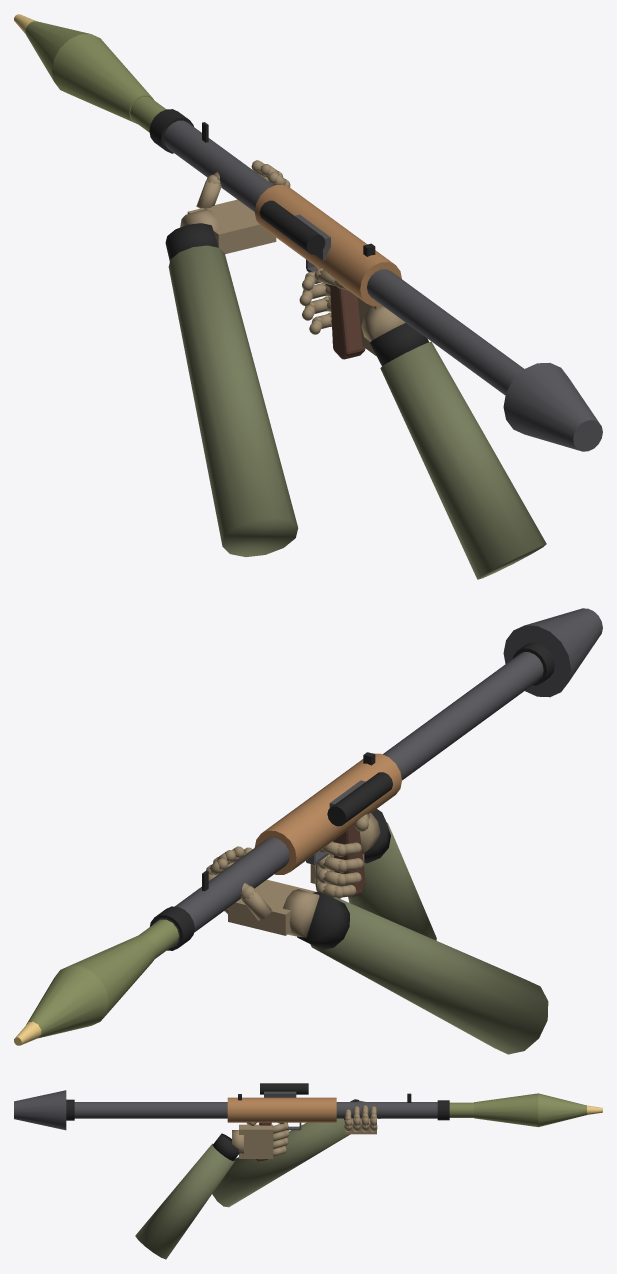
File: rpg7.glb
3 views of the same model, one above another, from view 1: azimuth 30°, elevation 25°; view 2: azimuth 150°, elevation 25°; view 3: azimuth 270°, elevation 25° (orthographic). The views are drawn at different scales.
Parts seen in each view (by area): view 1: RPG7_HandLeft, RPG7_Body, RPG7_HandRight, RPG7_Rocket; view 2: RPG7_Body, RPG7_HandLeft, RPG7_Rocket, RPG7_HandRight; view 3: RPG7_Body, RPG7_HandRight, RPG7_HandLeft, RPG7_Rocket.
Boxes of the visible parts, left/top/right/bottom form: RPG7_HandLeft: left=165, top=160, right=298, bottom=556; RPG7_Body: left=149, top=109, right=602, bottom=451; RPG7_HandRight: left=299, top=268, right=546, bottom=579; RPG7_Rocket: left=14, top=14, right=165, bottom=132; RPG7_Body: left=150, top=608, right=602, bottom=950; RPG7_HandLeft: left=206, top=846, right=548, bottom=1054; RPG7_Rocket: left=14, top=919, right=178, bottom=1045; RPG7_HandRight: left=310, top=809, right=436, bottom=940; RPG7_Body: left=14, top=1083, right=449, bottom=1161; RPG7_HandRight: left=135, top=1122, right=289, bottom=1259; RPG7_HandLeft: left=212, top=1099, right=380, bottom=1207; RPG7_Rocket: left=449, top=1093, right=602, bottom=1127.
Size of the model in its own units: 0.3718 by 0.4155 by 1.46.
